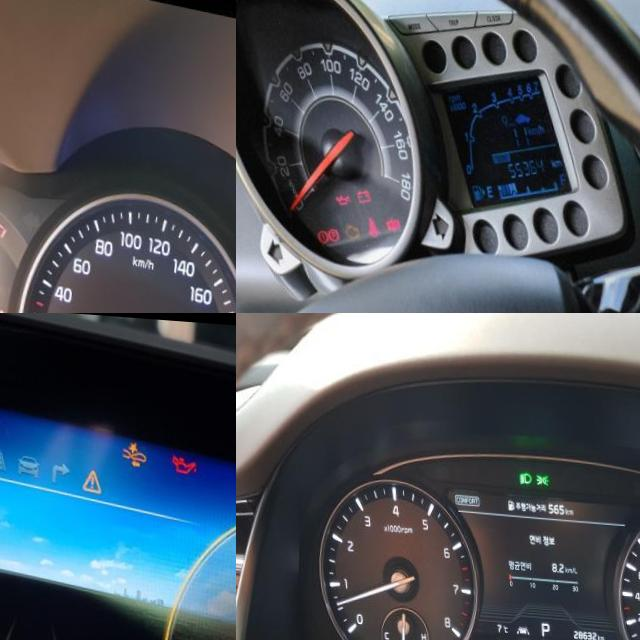Central Warning lamp: (78, 464, 102, 493)
Doors: (377, 208, 396, 228)
Low beam: (515, 465, 529, 480)
SideLamp: (531, 466, 547, 481)
